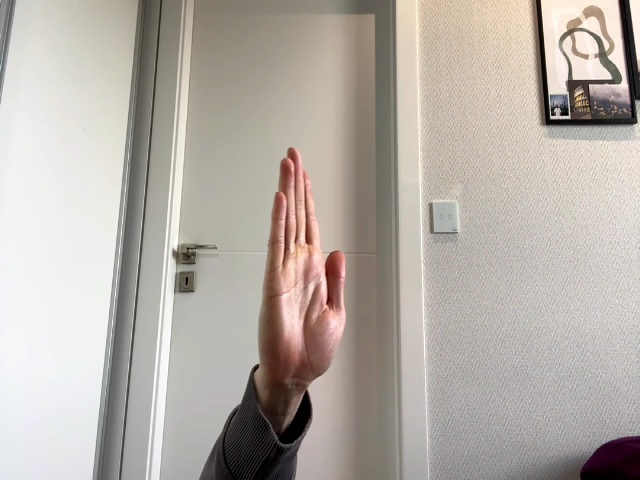SZ: (259, 147, 346, 388)
